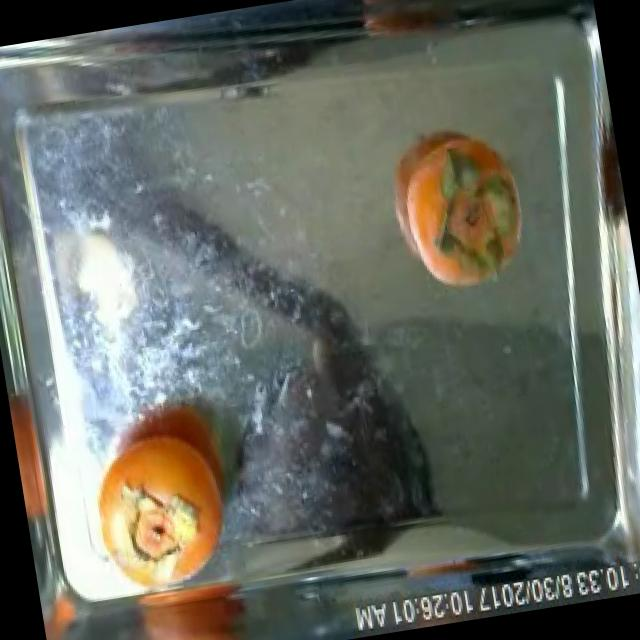Fruit: (384, 113, 546, 308), (80, 439, 242, 601), (109, 576, 265, 640)
